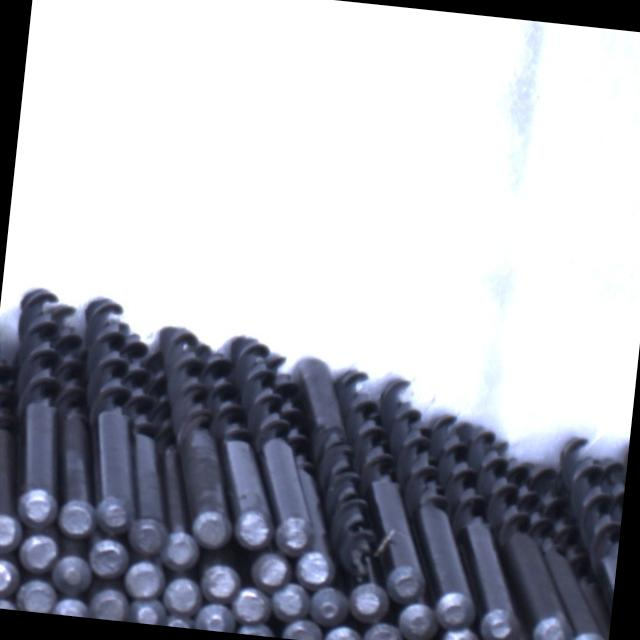tool: (344, 579, 388, 621), (232, 510, 276, 552), (270, 579, 312, 621), (19, 530, 61, 572), (230, 584, 272, 626), (88, 538, 130, 580), (18, 487, 60, 529), (52, 552, 94, 594), (190, 506, 232, 548), (250, 548, 294, 588), (309, 582, 350, 624), (200, 560, 242, 601), (397, 598, 438, 640), (122, 556, 164, 596), (126, 516, 168, 556), (94, 496, 136, 536), (162, 528, 202, 570), (384, 564, 426, 604), (295, 548, 336, 588), (162, 572, 202, 612), (58, 496, 98, 536), (436, 590, 476, 630), (16, 576, 57, 614), (89, 586, 130, 622), (276, 516, 314, 554), (193, 600, 234, 632), (481, 608, 518, 640), (530, 611, 570, 640), (130, 596, 168, 626), (283, 617, 325, 640), (362, 618, 404, 640), (0, 510, 21, 554), (53, 594, 91, 618), (323, 622, 363, 640), (0, 553, 18, 592), (568, 628, 609, 640), (442, 629, 479, 640), (0, 596, 20, 610)
